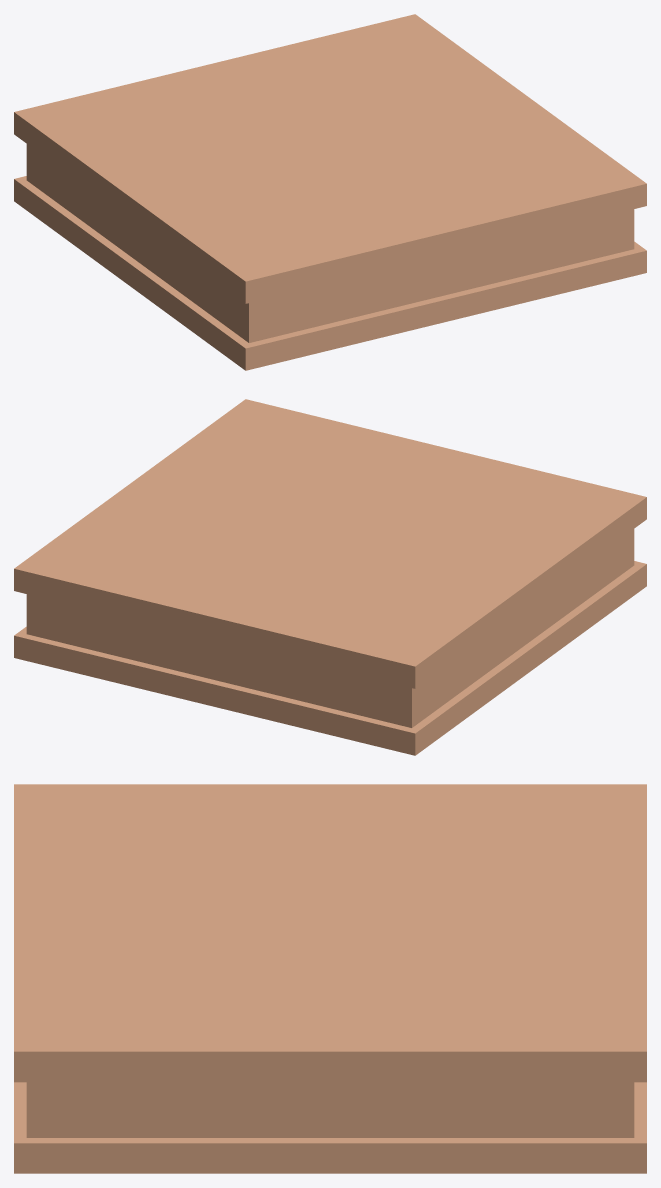
File: roof-flat-detail-b.obj
3 views of the same model, one above another, from view 1: azimuth 30°, elevation 25°; view 2: azimuth 150°, elevation 25°; view 3: azimuth 270°, elevation 25° (orthographic). The views are drawn at different scales.
Size of the model in its own units: 1 by 0.2125 by 1.
